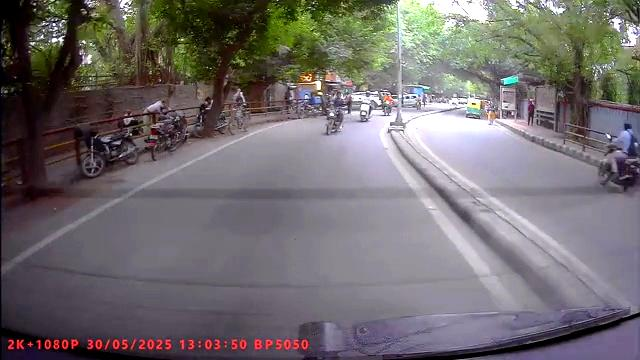motorcycle_without_helmet: (323, 88, 349, 136)
